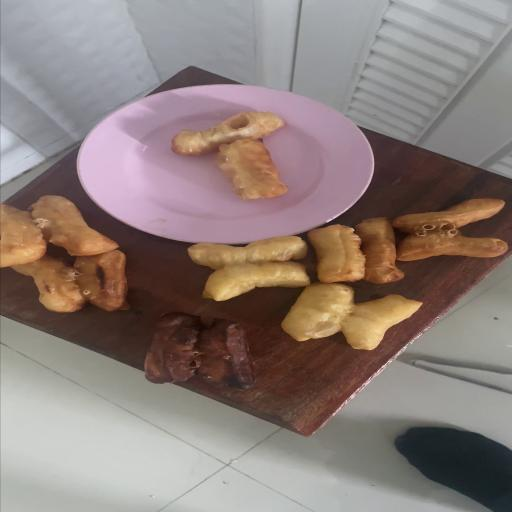street_burnt_defect: (142, 313, 255, 390), (6, 253, 126, 312)
street_golden_good: (188, 235, 310, 300)
